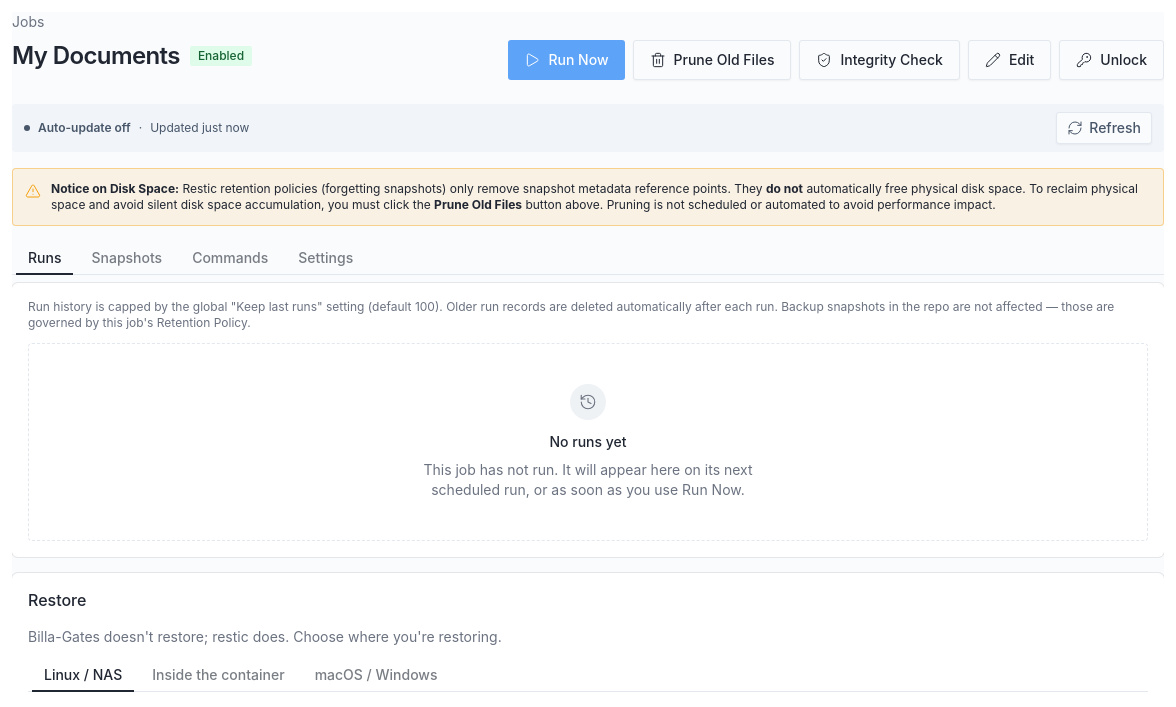
Test case: JobDetail › tab switching › reports an unreachable repository instead of "no snapshots"
The width and height of the screenshot is (1176, 707).
Click the tab "Snapshots" at (127, 258), box [78, 246, 175, 270]
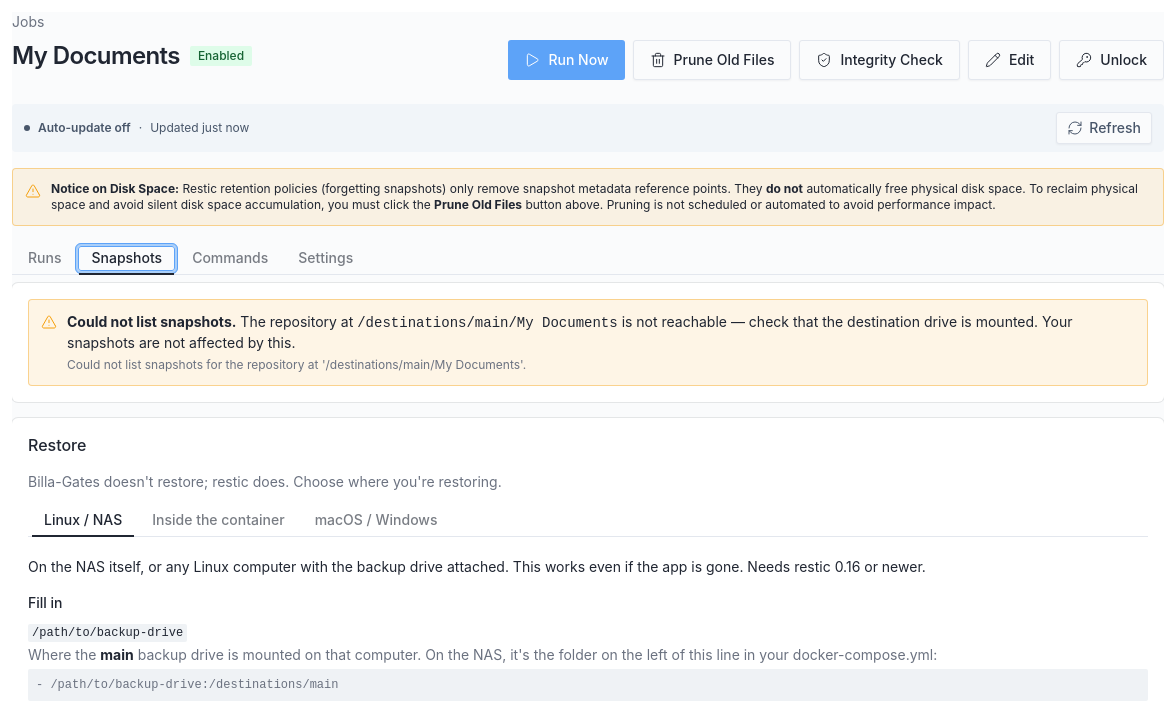
Check: the text "Could not list snapshots." is shown, box [67, 313, 236, 330]
Check: the text "destination drive is mounted" is shown, box [67, 313, 1072, 351]
